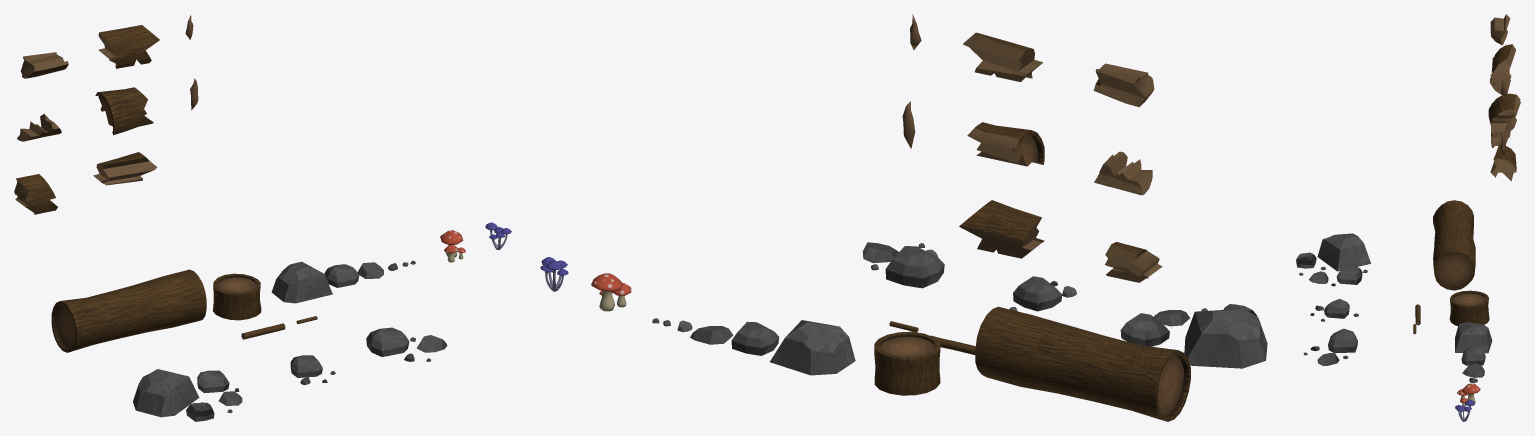
The model's file is Prop_End.fbx.
3 views of the same model, side by side, from view 1: azimuth 30°, elevation 25°; view 2: azimuth 150°, elevation 25°; view 3: azimuth 270°, elevation 25° (orthographic). The views are drawn at different scales.
Parts seen in each view (by area): view 1: Log, Stone_Bundle_1, Log_Small, Wood_Broken_02, Stone_05, Wood_Broken_01, Stone_Bundle_3, Wood_Broken_03, Wood_Broken_04, Wood_Broken_05, Stone_Bundle_2, Stone_00 (+2 smaller); view 2: Log, Stone_Bundle_1, Log_Small, Stone_05, Wood_Broken_03, Stone_Bundle_3, Wood_Broken_01, Wood_Broken_02, Wood_Broken_05, Wood_Broken_04, Wood_Broken_06, Stone_Bundle_2 (+2 smaller); view 3: Log, Stone_Bundle_1, Log_Small, Stone_05, Stone_Bundle_3, Wood_Broken_01, Wood_Broken_02, Wood_Broken_03, Stone_Bundle_2, Wood_Broken_05, Stone_00, Wood_Broken_04 (+3 smaller).
Boxes of the visible parts, x1,y1,x2,y2 form: Log: [51, 269, 206, 352]; Stone_Bundle_1: [133, 369, 242, 421]; Log_Small: [212, 273, 261, 320]; Wood_Broken_02: [98, 25, 159, 68]; Stone_05: [271, 261, 332, 303]; Wood_Broken_01: [95, 87, 153, 135]; Stone_Bundle_3: [366, 327, 447, 361]; Wood_Broken_03: [93, 152, 157, 185]; Wood_Broken_04: [14, 174, 57, 214]; Wood_Broken_05: [20, 52, 68, 78]; Stone_Bundle_2: [290, 355, 335, 385]; Stone_00: [324, 264, 359, 287]; Log: [975, 306, 1190, 421]; Stone_Bundle_1: [1120, 304, 1267, 368]; Log_Small: [874, 331, 940, 395]; Stone_05: [770, 320, 855, 375]; Wood_Broken_03: [959, 200, 1044, 258]; Stone_Bundle_3: [862, 242, 944, 288]; Wood_Broken_01: [967, 122, 1044, 166]; Wood_Broken_02: [963, 32, 1042, 82]; Wood_Broken_05: [1093, 63, 1154, 107]; Wood_Broken_04: [1105, 242, 1162, 282]; Wood_Broken_06: [1094, 151, 1152, 195]; Stone_Bundle_2: [1010, 276, 1076, 311]; Log: [1433, 200, 1475, 290]; Stone_Bundle_1: [1296, 233, 1370, 286]; Log_Small: [1449, 290, 1489, 325]; Stone_05: [1455, 322, 1492, 353]; Stone_Bundle_3: [1303, 328, 1357, 366]; Wood_Broken_01: [1488, 93, 1520, 134]; Wood_Broken_02: [1491, 44, 1515, 84]; Wood_Broken_03: [1490, 144, 1516, 181]; Stone_Bundle_2: [1310, 298, 1358, 321]; Wood_Broken_05: [1490, 14, 1510, 45]; Stone_00: [1461, 346, 1485, 365]; Wood_Broken_04: [1491, 116, 1516, 147].
Bounding box in the file's own units: 879 × 517 × 453.
